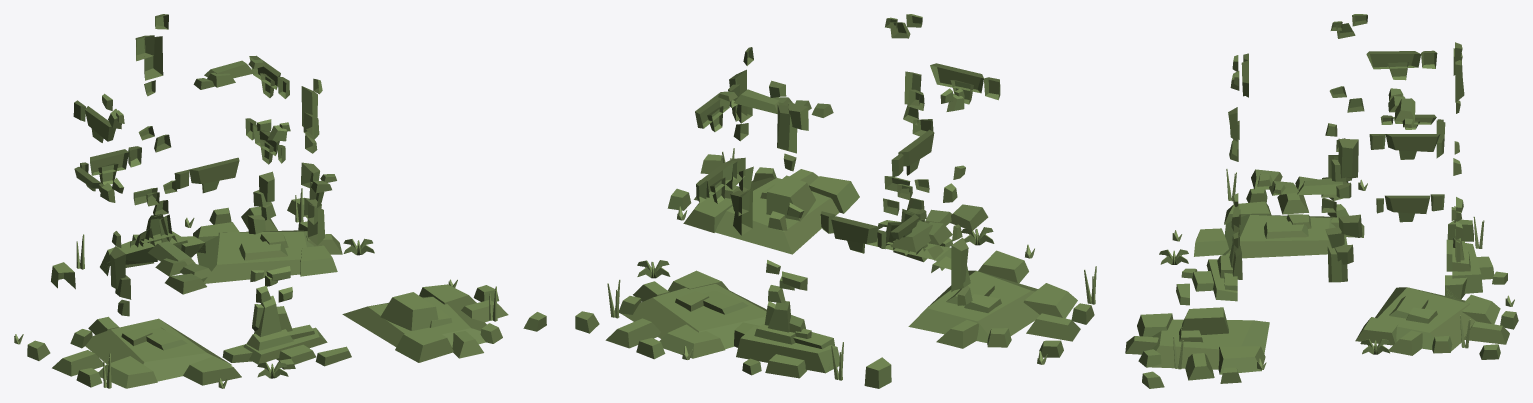
The model's file is SA_Bld_Building_Plants_02.gltf.
The picture shows the model from 3 angles, left to right: view 1: azimuth 30°, elevation 25°; view 2: azimuth 150°, elevation 25°; view 3: azimuth 270°, elevation 25°; orthographic projection. The views are drawn at different scales.
Parts seen in each view (by area): view 1: SA_Bld_Building_Plants_02; view 2: SA_Bld_Building_Plants_02; view 3: SA_Bld_Building_Plants_02.
Boxes of the visible parts, <box> form: SA_Bld_Building_Plants_02: <box>14,14,546,388</box>; SA_Bld_Building_Plants_02: <box>575,14,1096,388</box>; SA_Bld_Building_Plants_02: <box>1125,14,1518,388</box>.
Size of the model in its own units: 33.39 by 18.78 by 28.03.
Materials: 1 (1 with a texture image).
